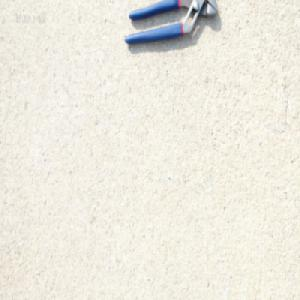Pliers: (124, 0, 218, 47)
